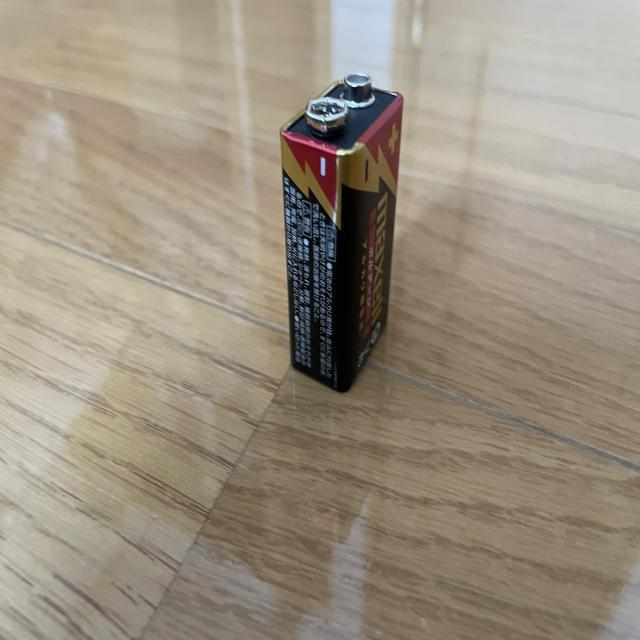9V: (280, 74, 405, 391)
